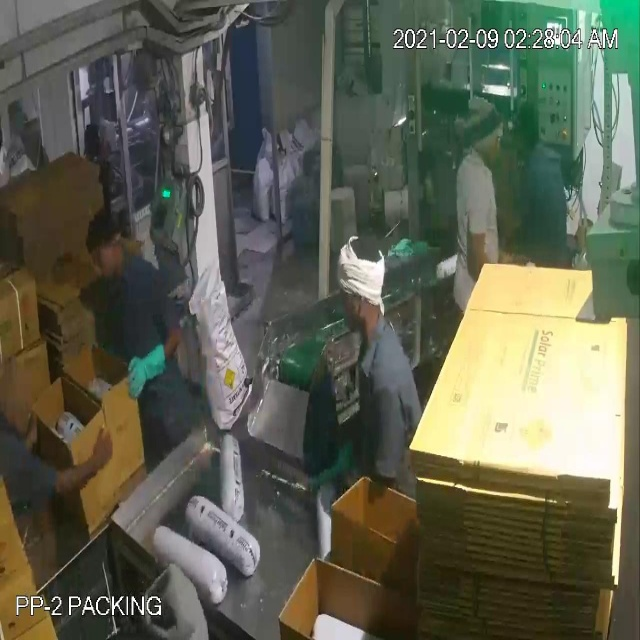Guantes: (113, 344, 177, 402)
Sin_guantes: (52, 427, 117, 504)
